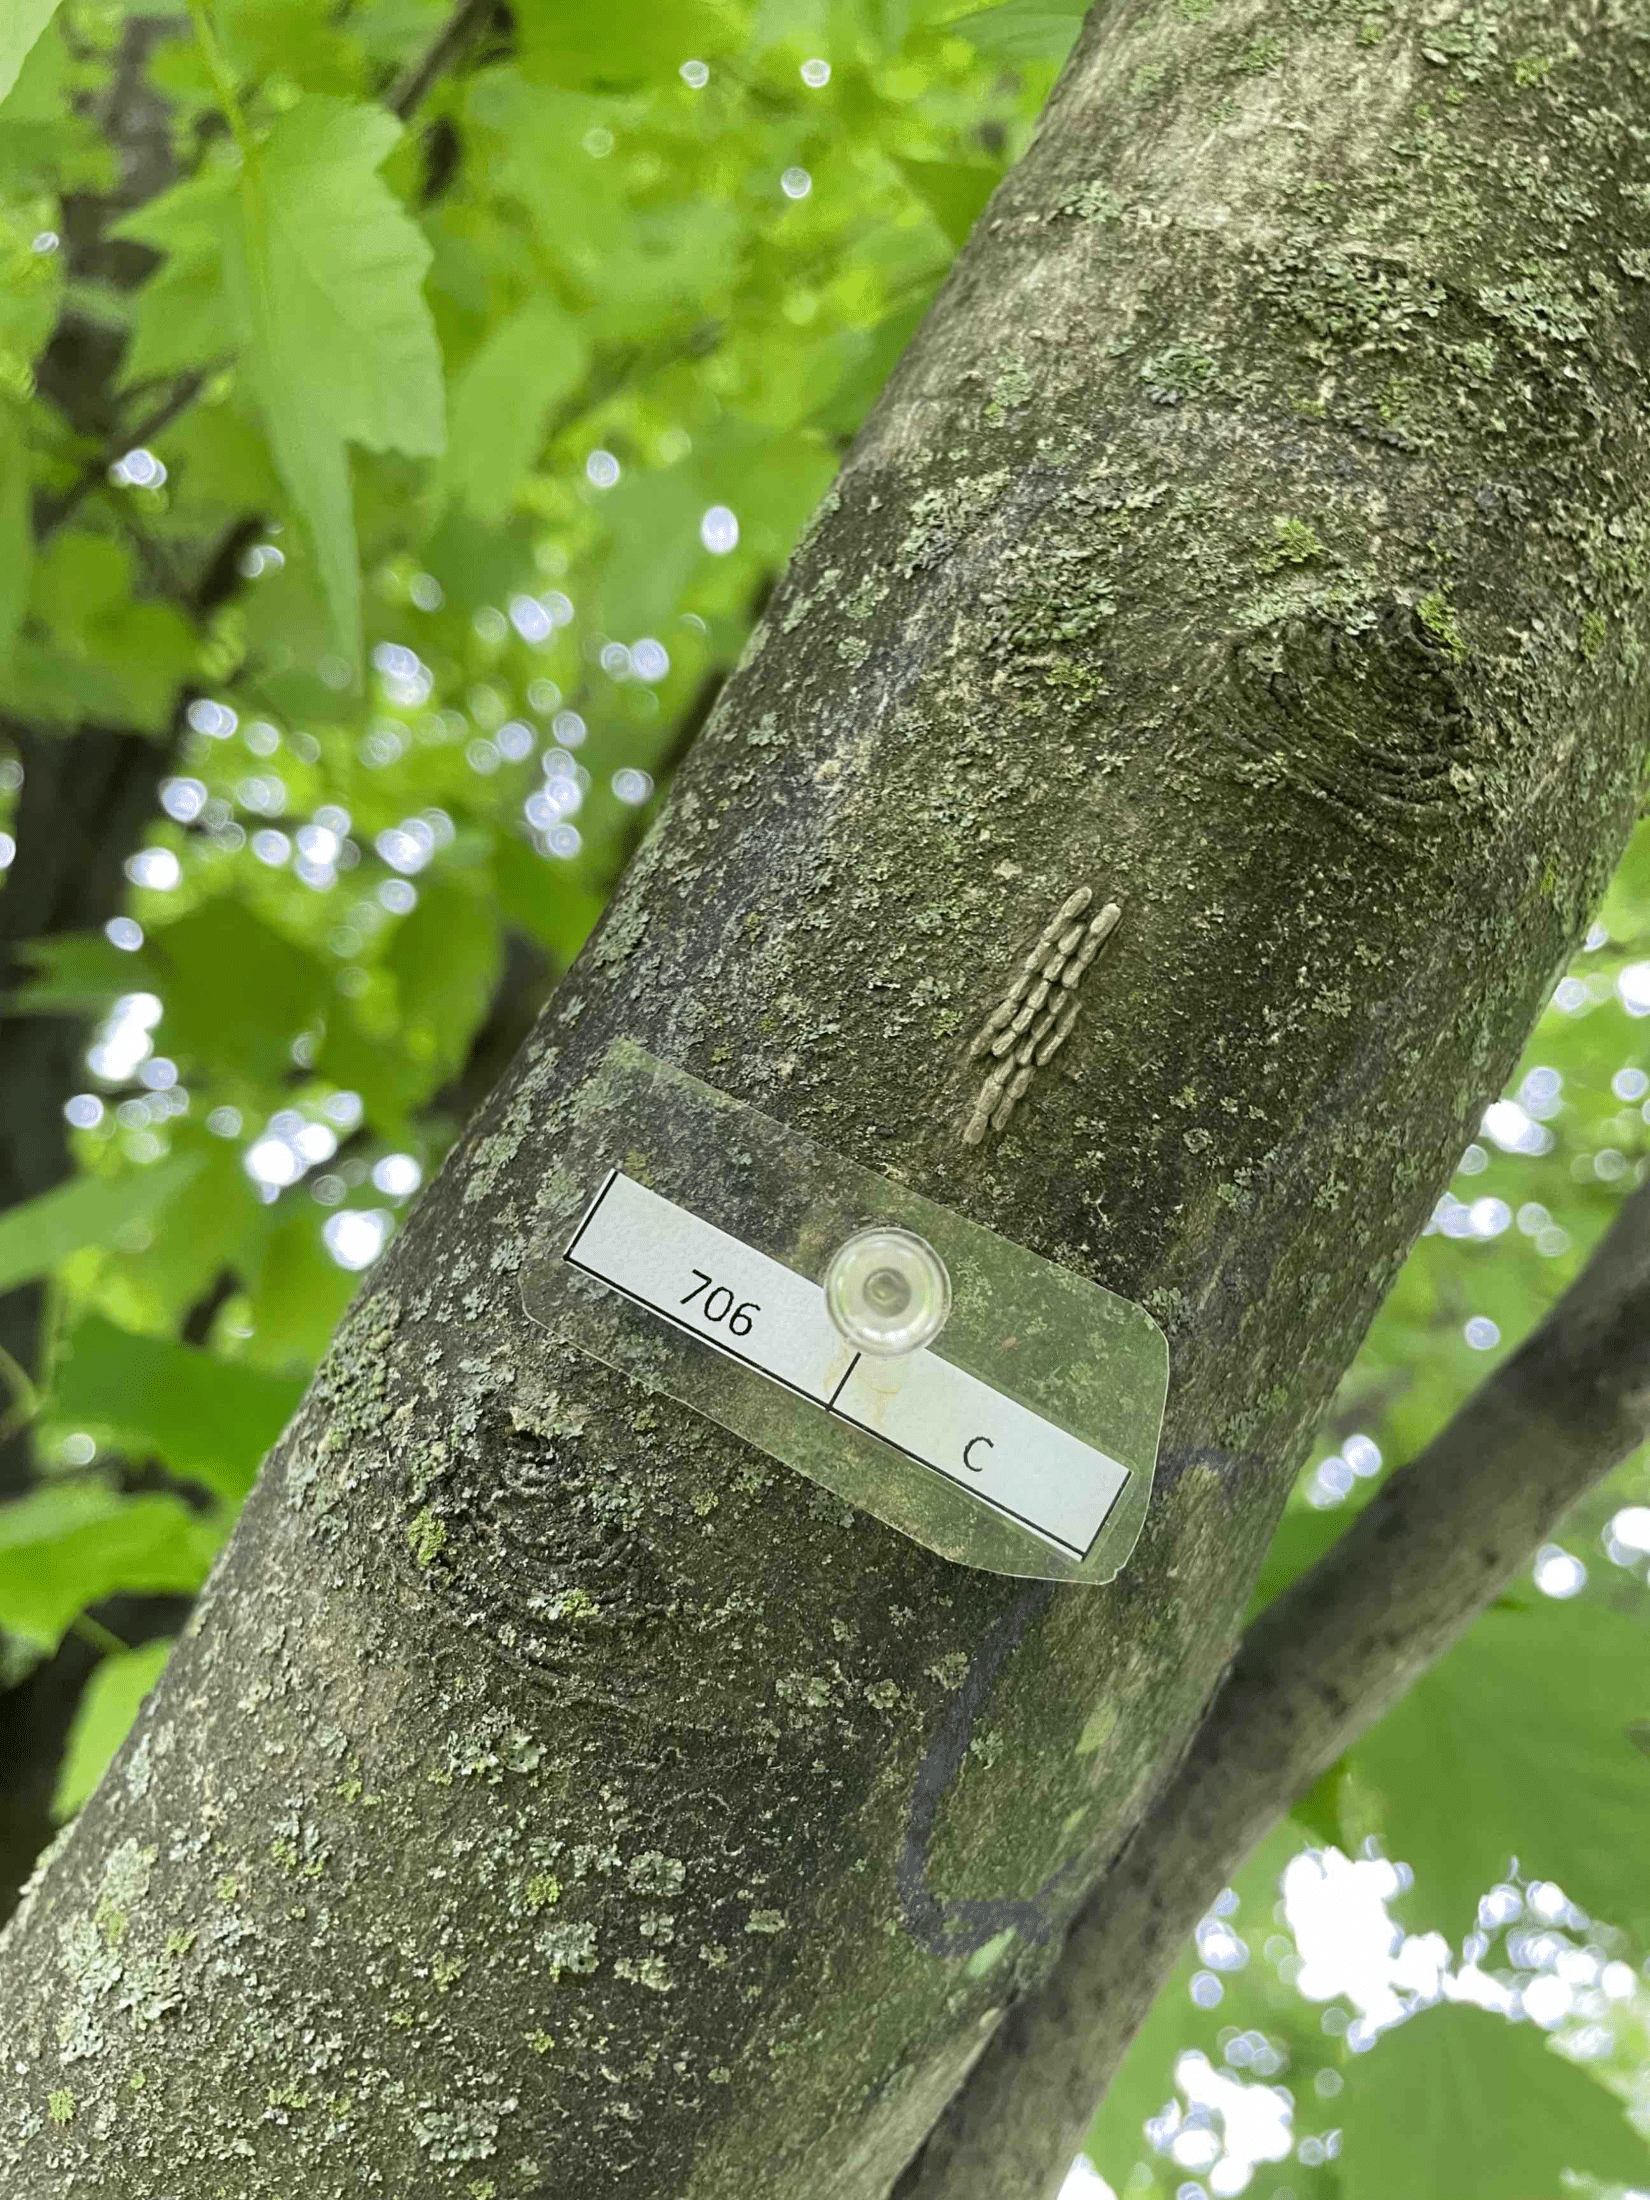egg masses: (953, 856, 1125, 1168)
